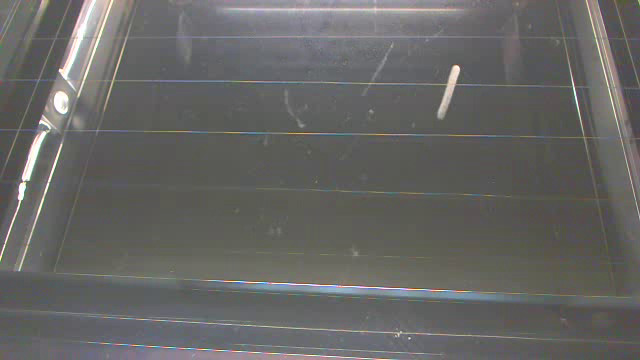alpha: (433, 58, 465, 124)
